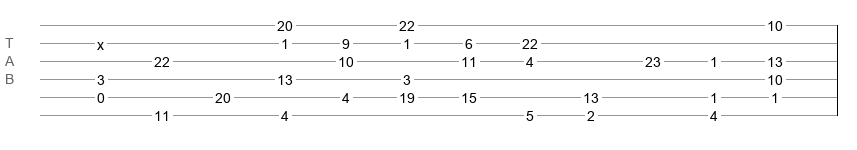0: (97, 90, 105, 100)
1: (281, 36, 289, 46), (403, 36, 411, 46), (710, 54, 718, 64), (710, 90, 718, 100), (771, 90, 779, 100)
10: (338, 54, 354, 64), (767, 18, 783, 28), (767, 72, 783, 82)
11: (154, 108, 170, 118), (461, 54, 477, 64)
13: (277, 72, 293, 82), (583, 90, 599, 100), (767, 54, 783, 64)
15: (461, 90, 477, 100)
19: (399, 90, 415, 100)
2: (587, 108, 595, 118)
20: (215, 90, 231, 100), (277, 18, 293, 28)
22: (154, 54, 170, 64), (399, 18, 415, 28), (522, 36, 538, 46)
23: (645, 54, 661, 64)
3: (97, 72, 105, 82), (403, 72, 411, 82)
4: (281, 108, 289, 118), (342, 90, 350, 100), (526, 54, 534, 64), (710, 108, 718, 118)
5: (526, 108, 534, 118)
6: (465, 36, 473, 46)
9: (342, 36, 350, 46)
x: (97, 37, 104, 45)
